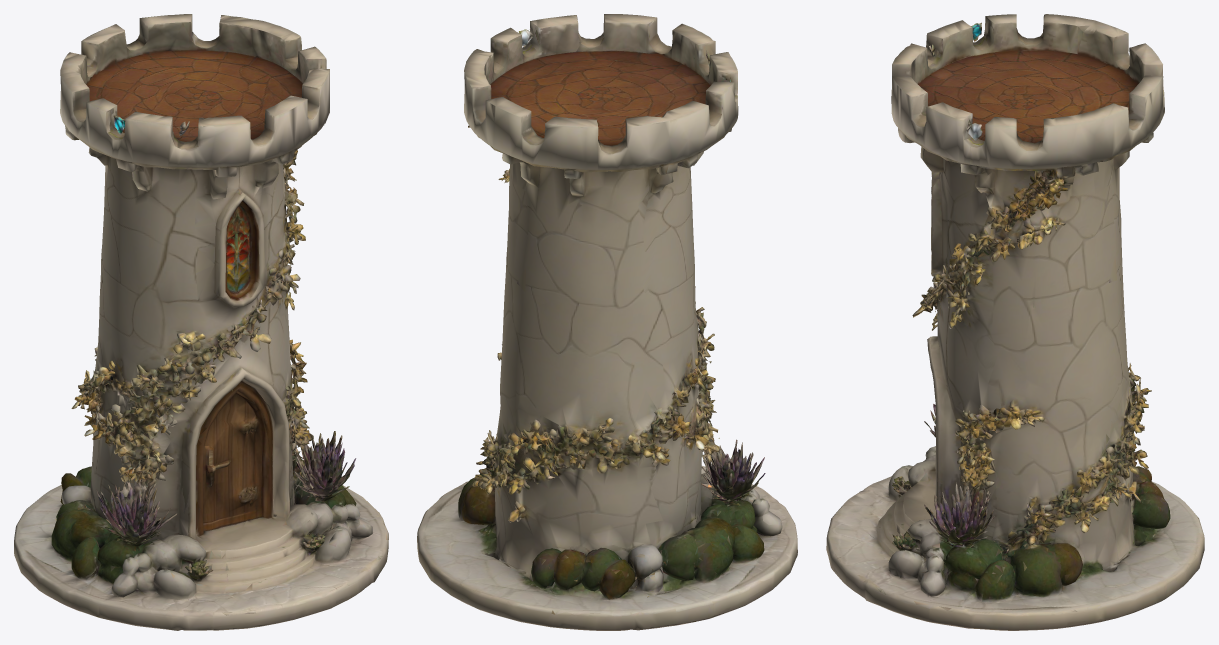
The model's file is Elven_tower_base_Circ.glb.
The picture shows the model from 3 angles, left to right: view 1: azimuth 30°, elevation 25°; view 2: azimuth 150°, elevation 25°; view 3: azimuth 270°, elevation 25°; orthographic projection.
Parts seen in each view (by area): view 1: Elven_tower_base_Circ; view 2: Elven_tower_base_Circ; view 3: Elven_tower_base_Circ.
Part boxes in pixels (bbox=[...]): Elven_tower_base_Circ: bbox=[14, 14, 388, 630]; Elven_tower_base_Circ: bbox=[417, 14, 797, 630]; Elven_tower_base_Circ: bbox=[826, 14, 1204, 630].
Bounding box in the file's own units: 1.35 × 1.9 × 1.35.
Materials: 1 (1 with a texture image).
